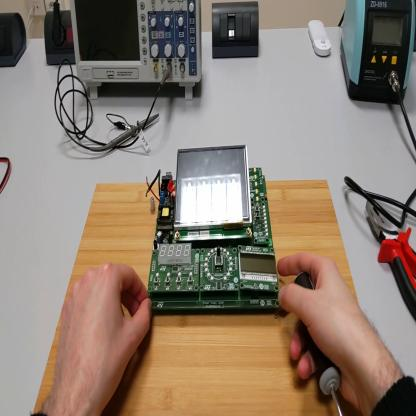hand: (42, 260, 152, 415), (279, 249, 369, 401)
low voltage board: (146, 145, 280, 313)
oscilloscope: (72, 2, 203, 101)
oscilloscope probe tip: (99, 113, 158, 153)
pliers: (367, 198, 416, 324)
screwdriver-: (296, 273, 342, 413)
socket: (45, 11, 77, 67), (1, 11, 29, 70)
welder station: (342, 2, 416, 105)
working area: (36, 180, 364, 415)
